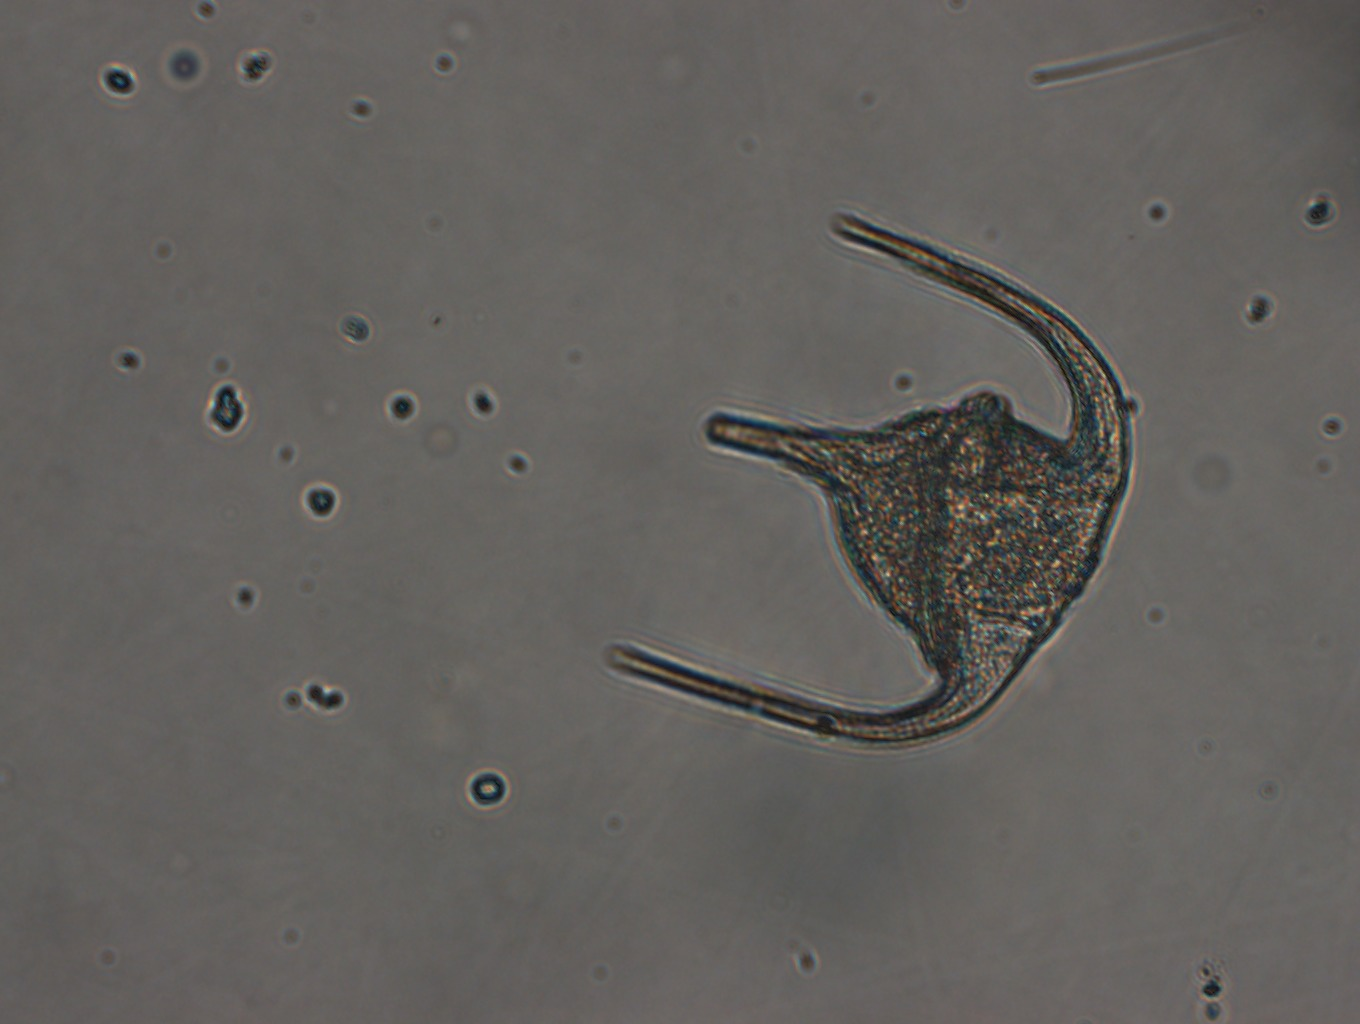ceratium tripos: (600, 190, 1140, 744)
